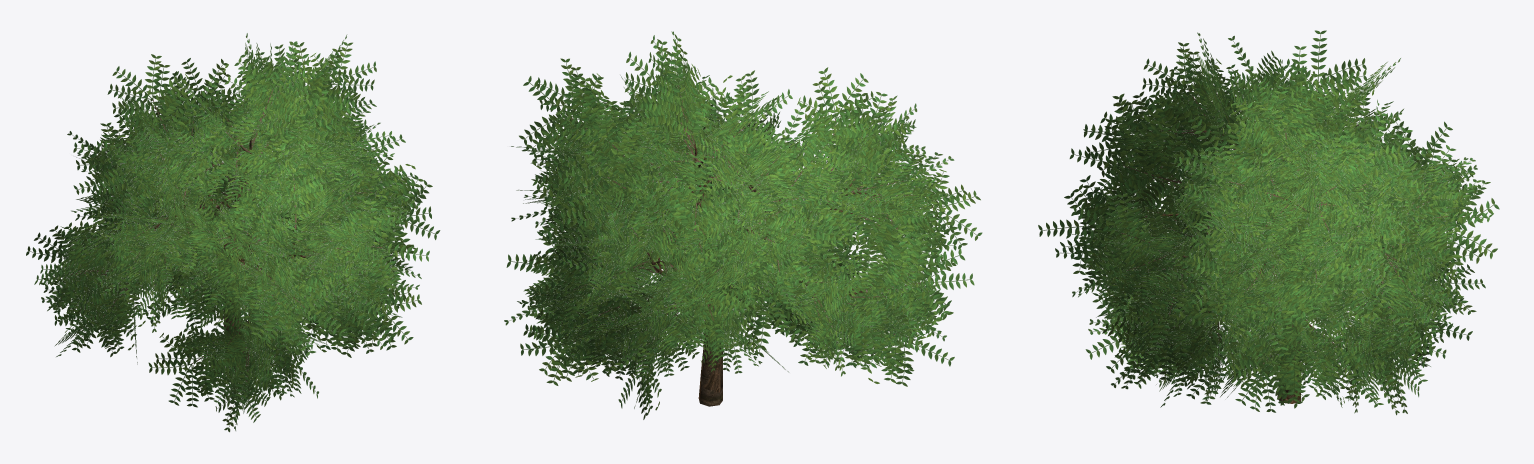
The model's file is veg_tree_koon_b.glb.
3 views of the same model, side by side, from view 1: azimuth 30°, elevation 25°; view 2: azimuth 150°, elevation 25°; view 3: azimuth 270°, elevation 25° (orthographic). The views are drawn at different scales.
Visible parts, largest first — view 1: Leaves, Trunk; view 2: Leaves, Trunk; view 3: Leaves.
Part boxes in pixels (x1,y1,x2,y2): Leaves: (26, 33, 440, 432); Trunk: (109, 135, 336, 361); Leaves: (504, 31, 982, 419); Trunk: (629, 144, 875, 406); Leaves: (1038, 30, 1499, 415).
Bounding box in the file's own units: 43.73 × 35.19 × 39.51.
2 materials, 2 textured.
